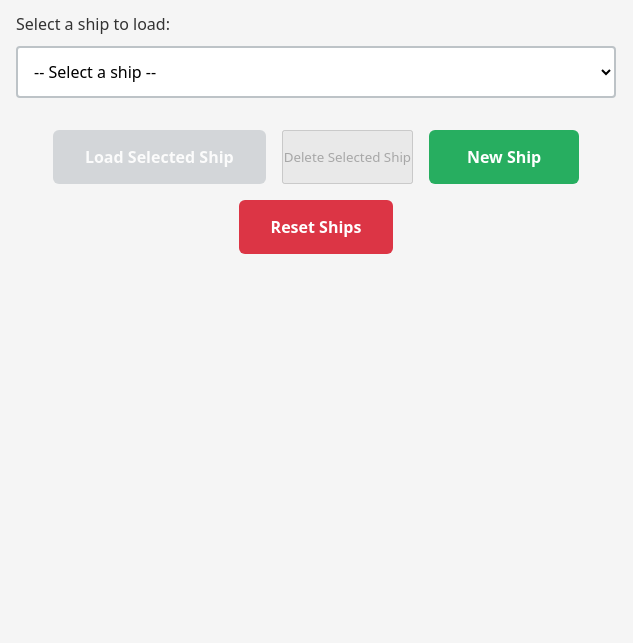
Scenario: SelectShipPanel › selecting a ship enables Load Selected Ship button
The width and height of the screenshot is (633, 643).
Select "Scout (100 tons, TLE)" in the dropdown at (316,72), box [16,46,616,98]
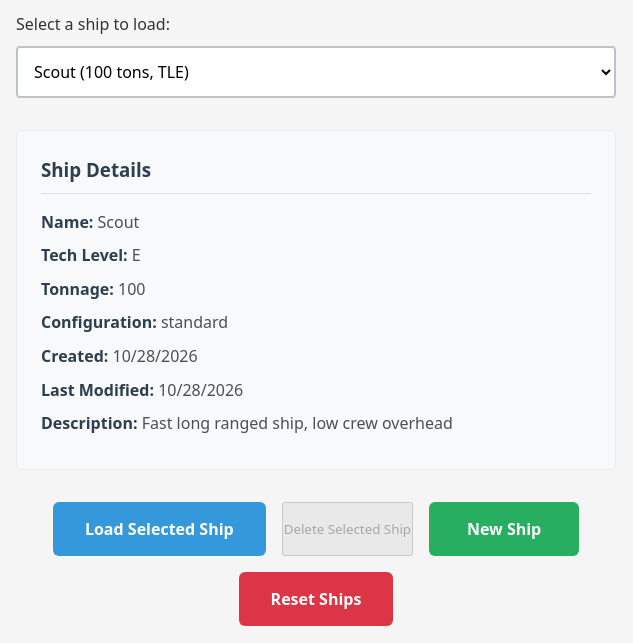
Now the button "Load Selected Ship" is enabled, box [53,502,266,556]
